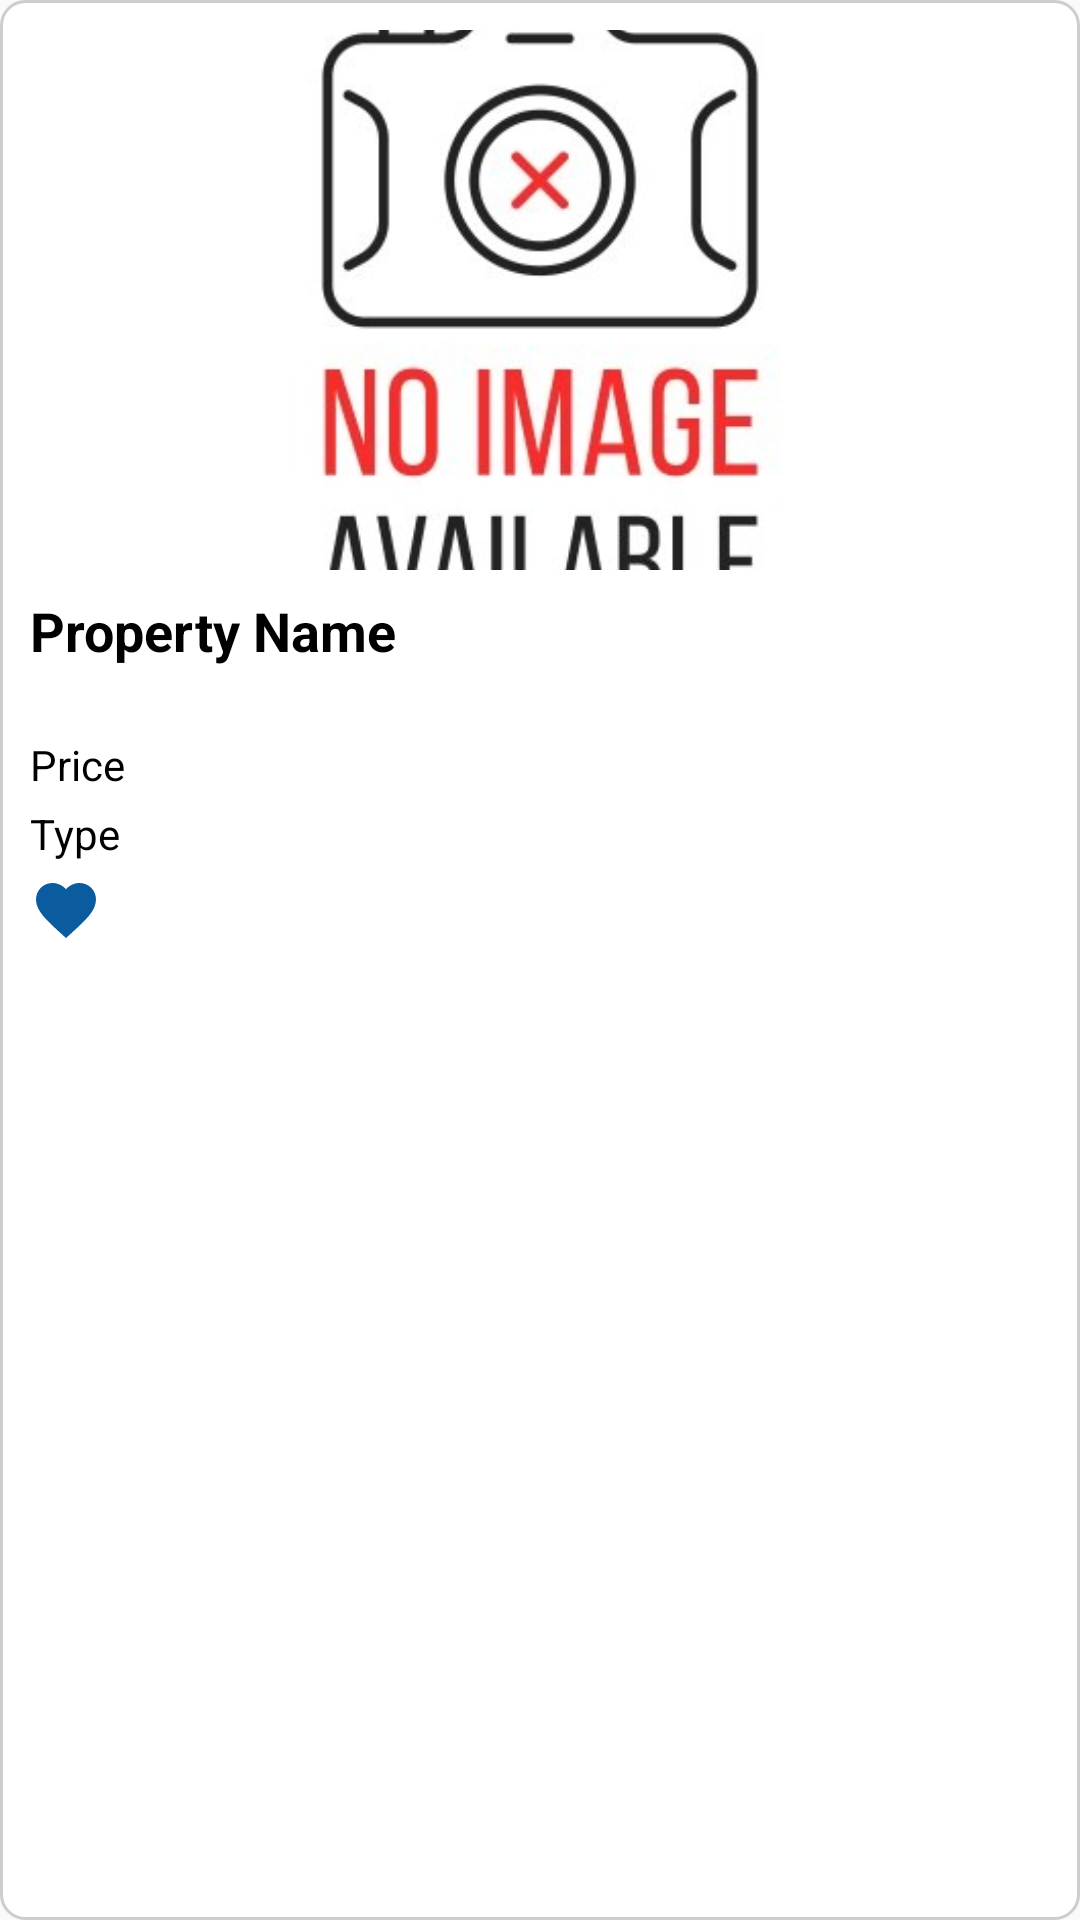

Named icons in this screenshot (1080 x 1920) and their centers, (x=x, y=y):
favorite: (x=66, y=910)
